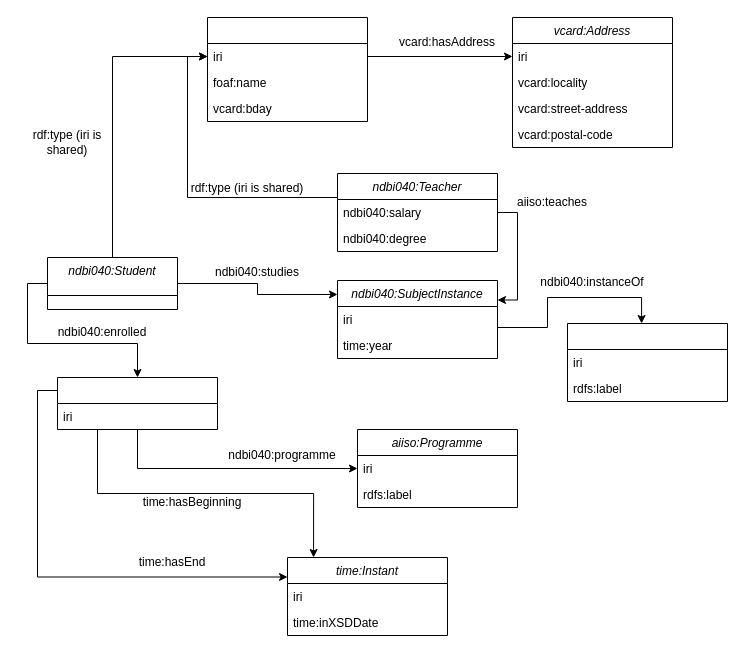
This 745x656 diagram has some shape labels left out. The shapes that lost their labels are listed below. From the top down, each one's box as (x1, y1, x2, y2) in pixels, then its label:
(206, 16, 368, 122): foaf:Person
(566, 322, 728, 402): aiiso:Subject
(56, 376, 218, 430): ndbi040:EnrollmentInterval
